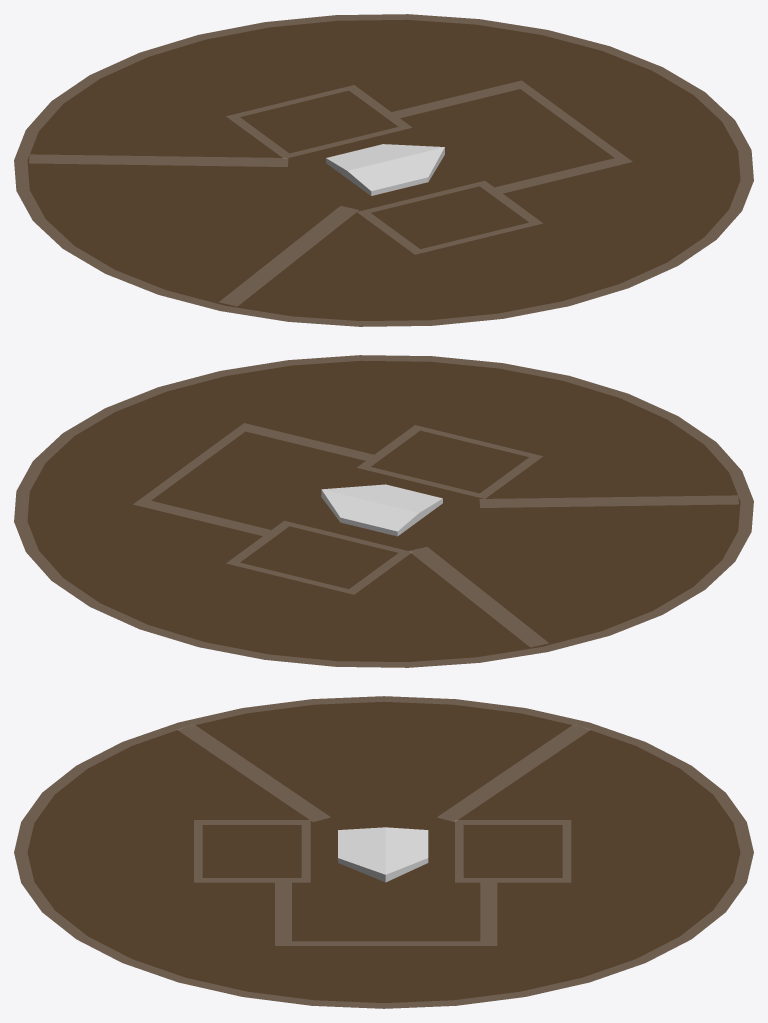
Rendered from zona_home.glb.
The picture shows the model from 3 angles, top to bottom: view 1: azimuth 30°, elevation 25°; view 2: azimuth 150°, elevation 25°; view 3: azimuth 270°, elevation 25°; orthographic projection.
Visible parts, largest first — view 1: Circle; view 2: Circle; view 3: Circle.
Part boxes in pixels (<box>): Circle: <box>14,14,753,326</box>; Circle: <box>14,355,753,667</box>; Circle: <box>14,696,753,1008</box>.
Size of the model in its own units: 10 by 0.1151 by 10.
2 materials, 1 textured.
